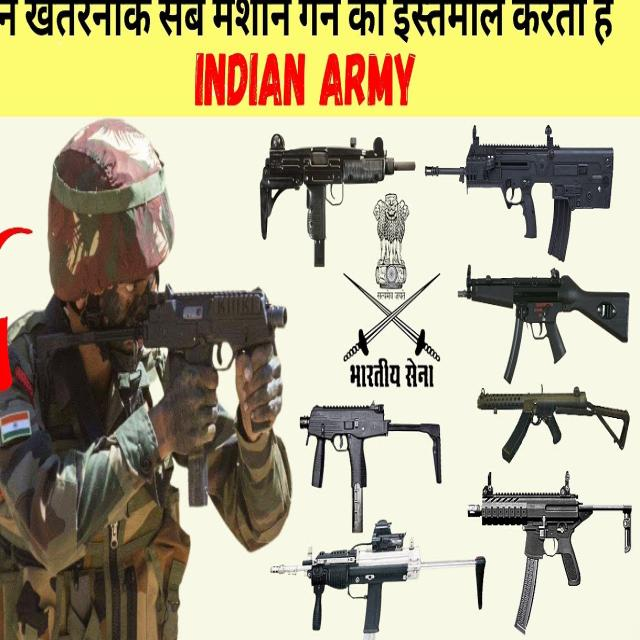Weapon: (468, 472, 631, 633), (425, 125, 613, 260), (36, 285, 286, 369), (260, 133, 415, 266), (458, 265, 629, 382), (271, 520, 423, 640), (300, 402, 390, 532), (477, 387, 629, 462), (424, 558, 484, 608), (392, 424, 441, 482), (188, 450, 208, 504)
